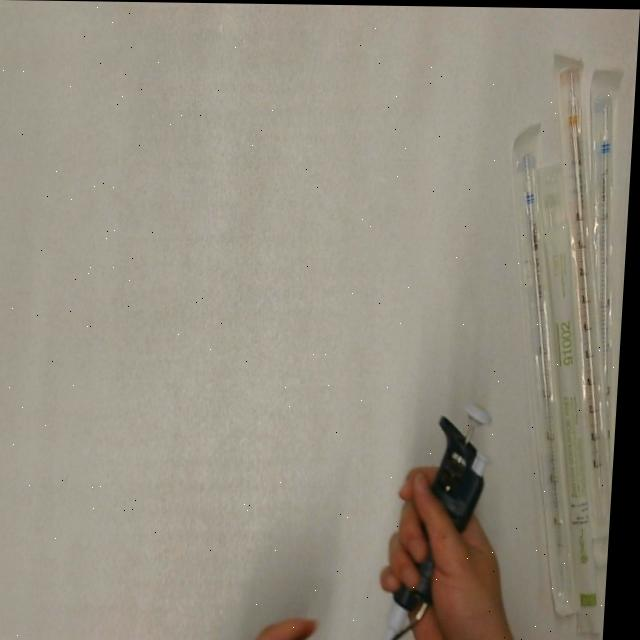Serelogical Pipet 10 mL: (530, 50, 638, 539)
Serelogical Pipet 2 mL: (517, 155, 632, 636)
Serelogical Pipet 5 mL: (489, 116, 609, 622), (574, 61, 637, 454)
Single Channel Pipettor: (382, 393, 505, 640)
